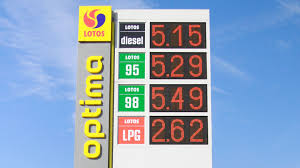LPG: (117, 125, 144, 144)
PB95: (119, 62, 144, 78)
PB98: (118, 94, 144, 111)
